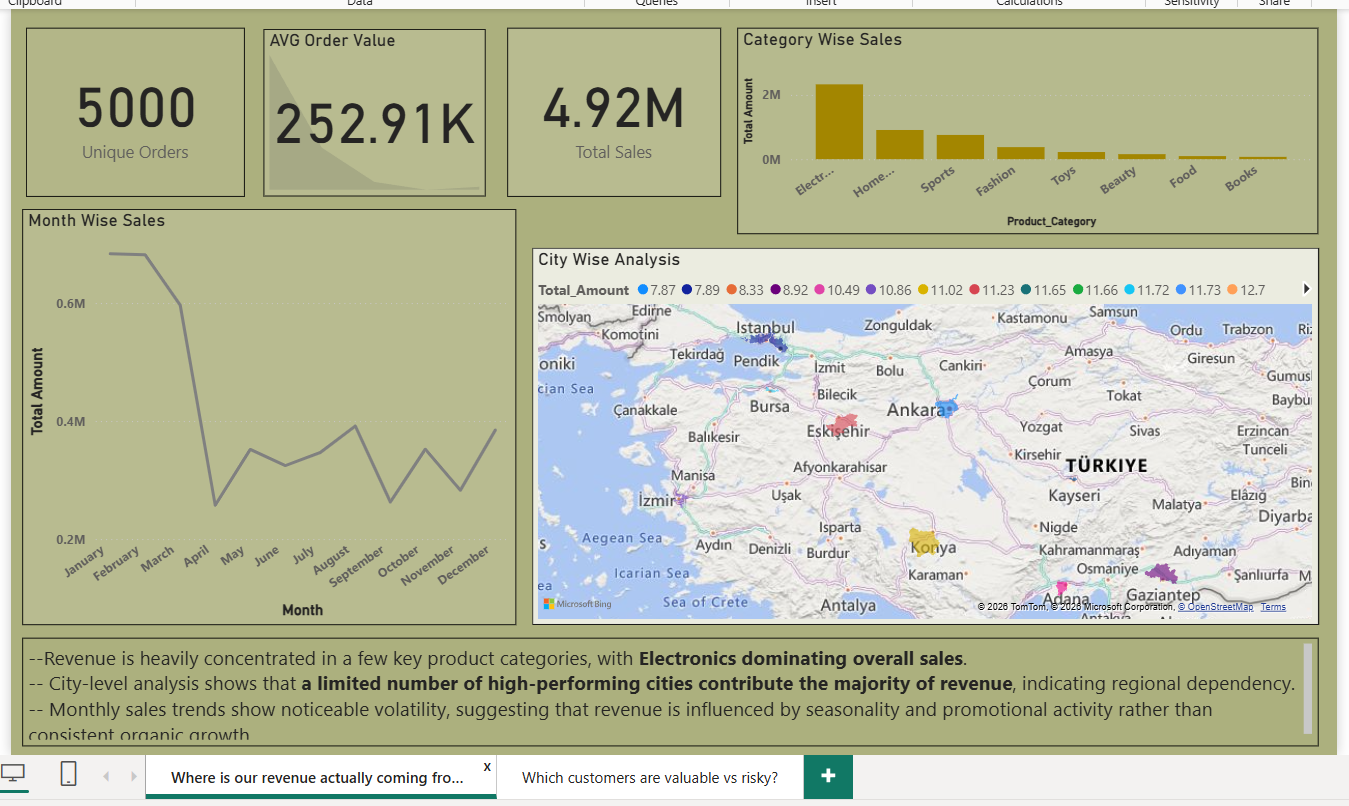

The page's visual inventory and layout, read from the dashboard file:
{"tool":"powerbi","page":{"name":"Where is our revenue actually coming from?","canvas":[1280,720],"ordinal":0},"visuals":[{"type":"card","fields":{"Values":["Count(Ecommerce.Order_ID)"]},"box":[14.5,18.1,211.1,162.9],"z":0},{"type":"card","fields":{"Values":["Sum(Ecommerce.Total_Amount)"]},"box":[479,18.1,206.3,162.9],"z":1000},{"type":"kpi","title":"AVG Order Value","fields":{"Indicator":["Sum(Ecommerce.Unit_Price)"],"TrendLine":["Ecommerce.Quantity"]},"box":[243.7,19.3,214.7,161.7],"z":2000},{"type":"lineChart","title":"Month Wise Sales","fields":{"Category":["Ecommerce.Date.Variation.Date Hierarchy.Month"],"Y":["Sum(Ecommerce.Total_Amount)"]},"box":[10.9,193,476.5,401.7],"z":3000},{"type":"columnChart","title":"Category Wise Sales","fields":{"Category":["Ecommerce.Product_Category"],"Y":["Sum(Ecommerce.Total_Amount)"]},"box":[700.9,18.1,561,199.1],"z":4000},{"type":"filledMap","title":"City Wise Analysis","fields":{"Category":["Ecommerce.City"],"Series":["Ecommerce.Total_Amount"]},"box":[503.1,230.4,758.9,364.3],"z":5000},{"type":"textbox","box":[10.9,606.8,1251.1,105],"z":6000}]}

Visuals, with their boxes on the page's 1280x720 design canvas (x1, y1, x2, y2). These are canvas units, not pixel positions in the 1349x806 screenshot, which may show the page scaled, cropped or inside an application window:
card - Count(Ecommerce.Order_ID): (x1=14, y1=18, x2=226, y2=181)
card - Sum(Ecommerce.Total_Amount): (x1=479, y1=18, x2=685, y2=181)
"AVG Order Value" kpi: (x1=244, y1=19, x2=458, y2=181)
"Month Wise Sales" lineChart: (x1=11, y1=193, x2=487, y2=595)
"Category Wise Sales" columnChart: (x1=701, y1=18, x2=1262, y2=217)
"City Wise Analysis" filledMap: (x1=503, y1=230, x2=1262, y2=595)
textbox: (x1=11, y1=607, x2=1262, y2=712)
